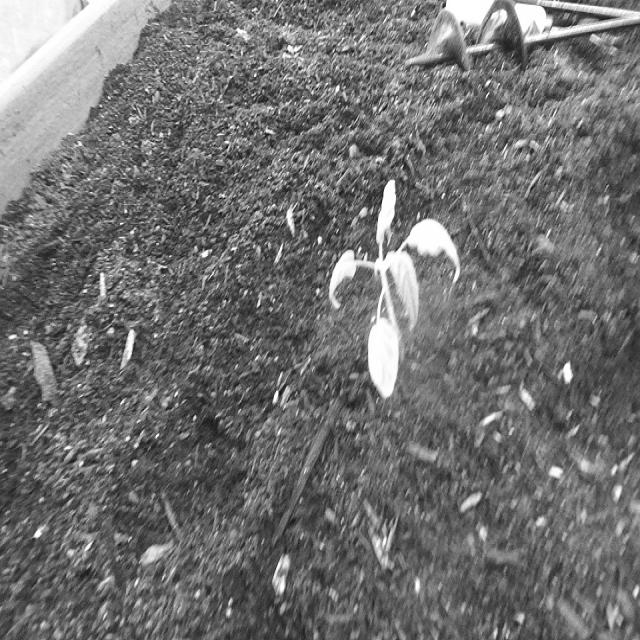Healthy: (326, 170, 464, 409)
